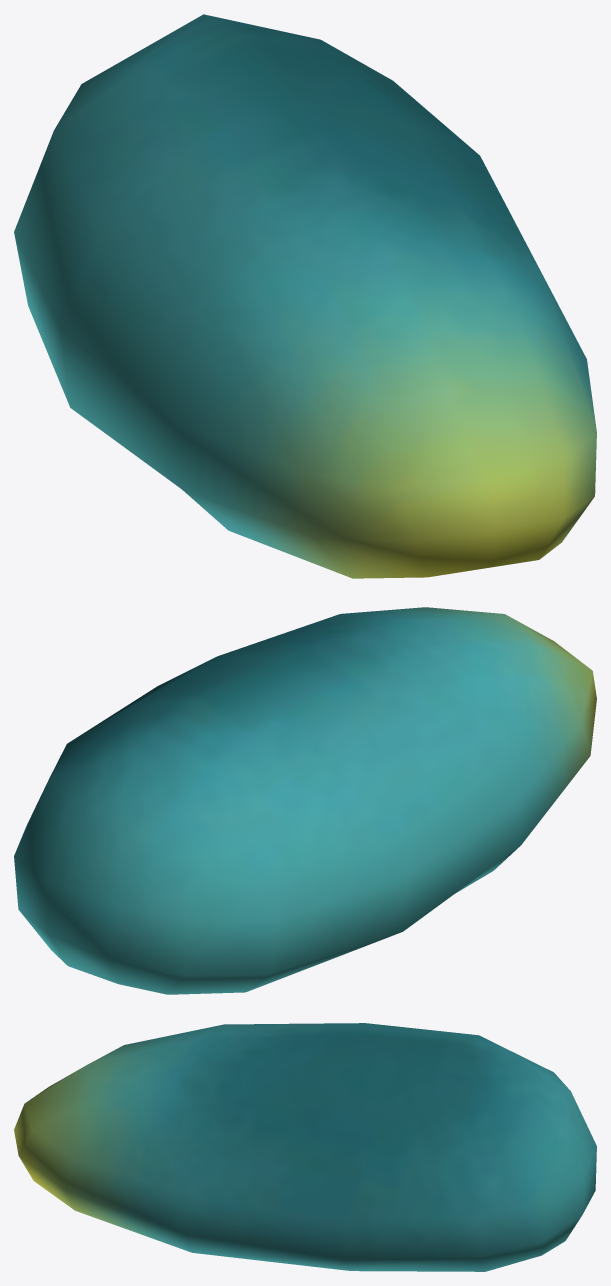
File: chaoLFoot.obj
The picture shows the model from 3 angles, top to bottom: view 1: azimuth 30°, elevation 25°; view 2: azimuth 150°, elevation 25°; view 3: azimuth 270°, elevation 25°; orthographic projection. The views are drawn at different scales.
Visible parts, largest first — view 1: chd_b_M.005; view 2: chd_b_M.005; view 3: chd_b_M.005.
Boxes of the visible parts, left/top/right/bottom form: chd_b_M.005: left=14, top=14, right=596, bottom=578; chd_b_M.005: left=14, top=607, right=596, bottom=994; chd_b_M.005: left=14, top=1023, right=596, bottom=1271.
Size of the model in its own units: 2.58 by 1.74 by 4.86.
1 material, 1 textured.
